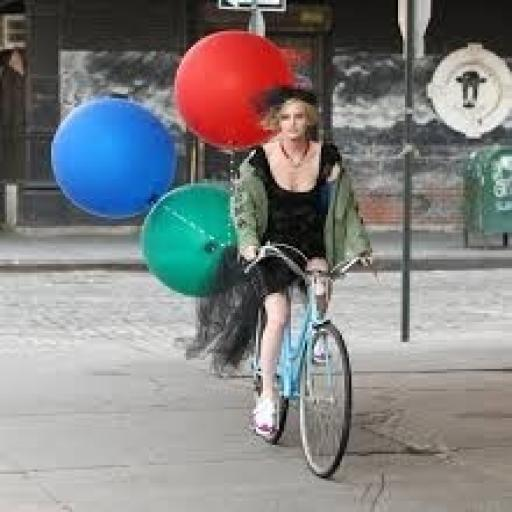cycling: (226, 82, 377, 442)
